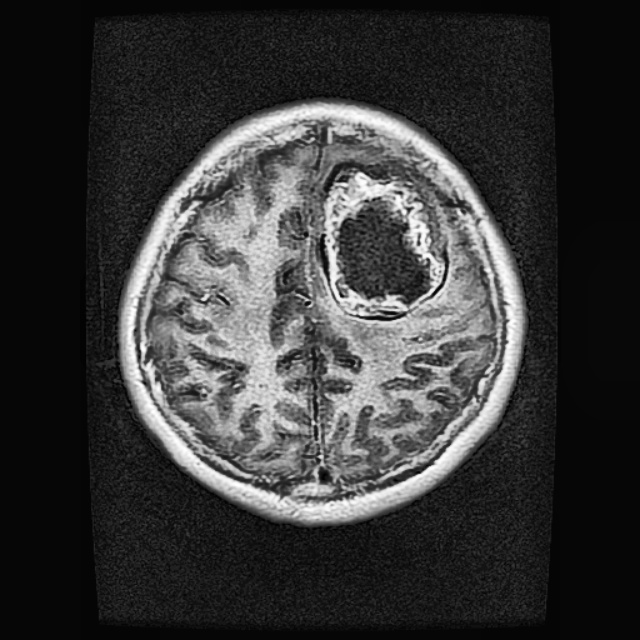Pituitary: (313, 159, 448, 322)
